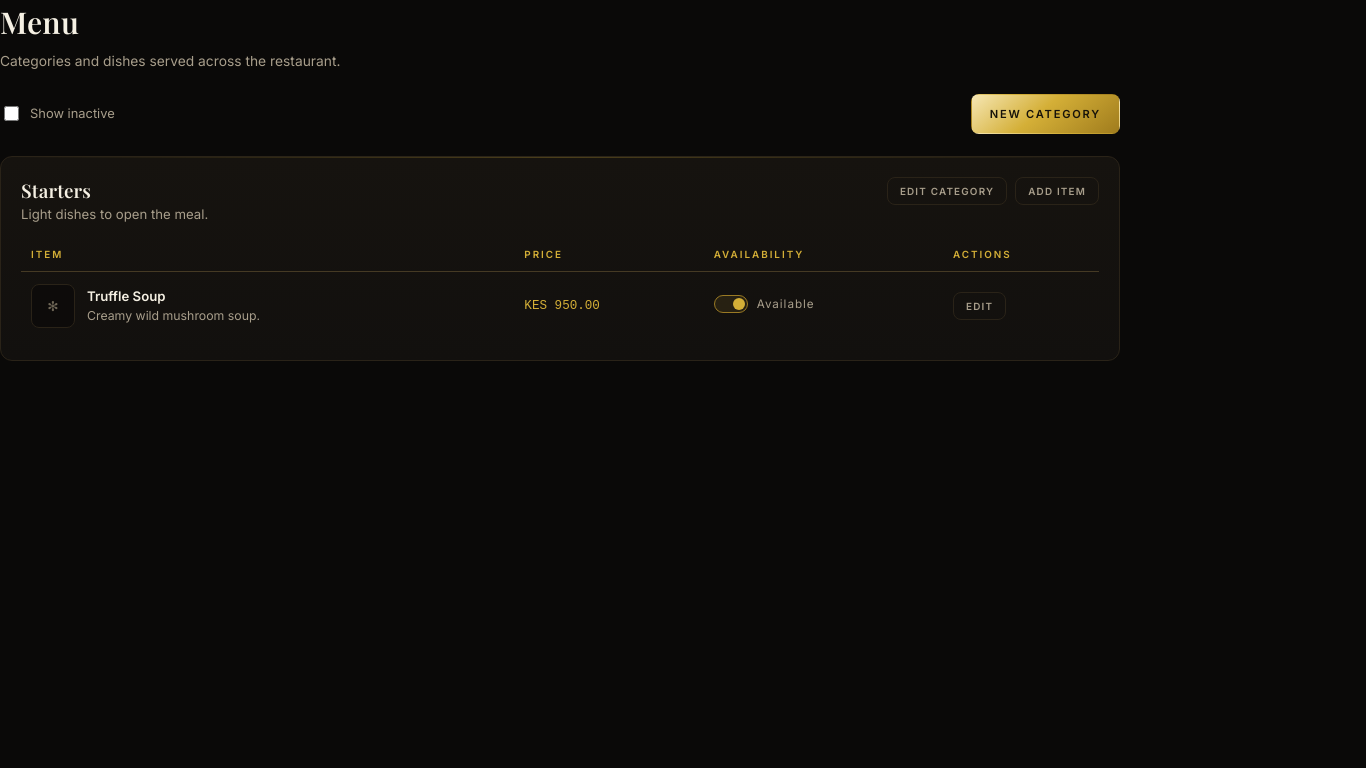
Test: category editing › creates a category through the modal
Expected: the text "Truffle Soup" is shown, [87,288,166,304]
Click the button "New category" at (1045, 114), box [971,94,1120,134]
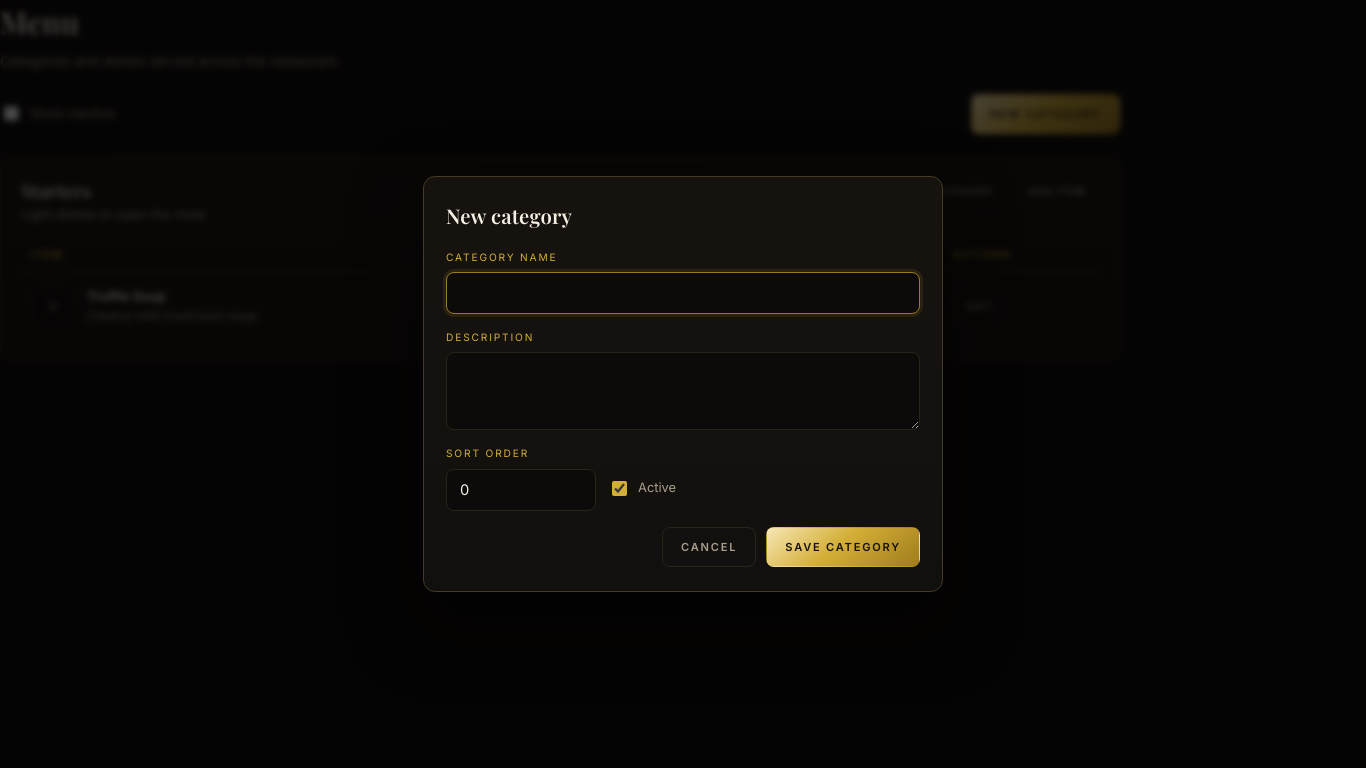
Result: the heading "New category" is shown at [446,202,572,229]
Type "Desserts" into the field labelled "Category name" at (683, 293), box [446,272,920,314]
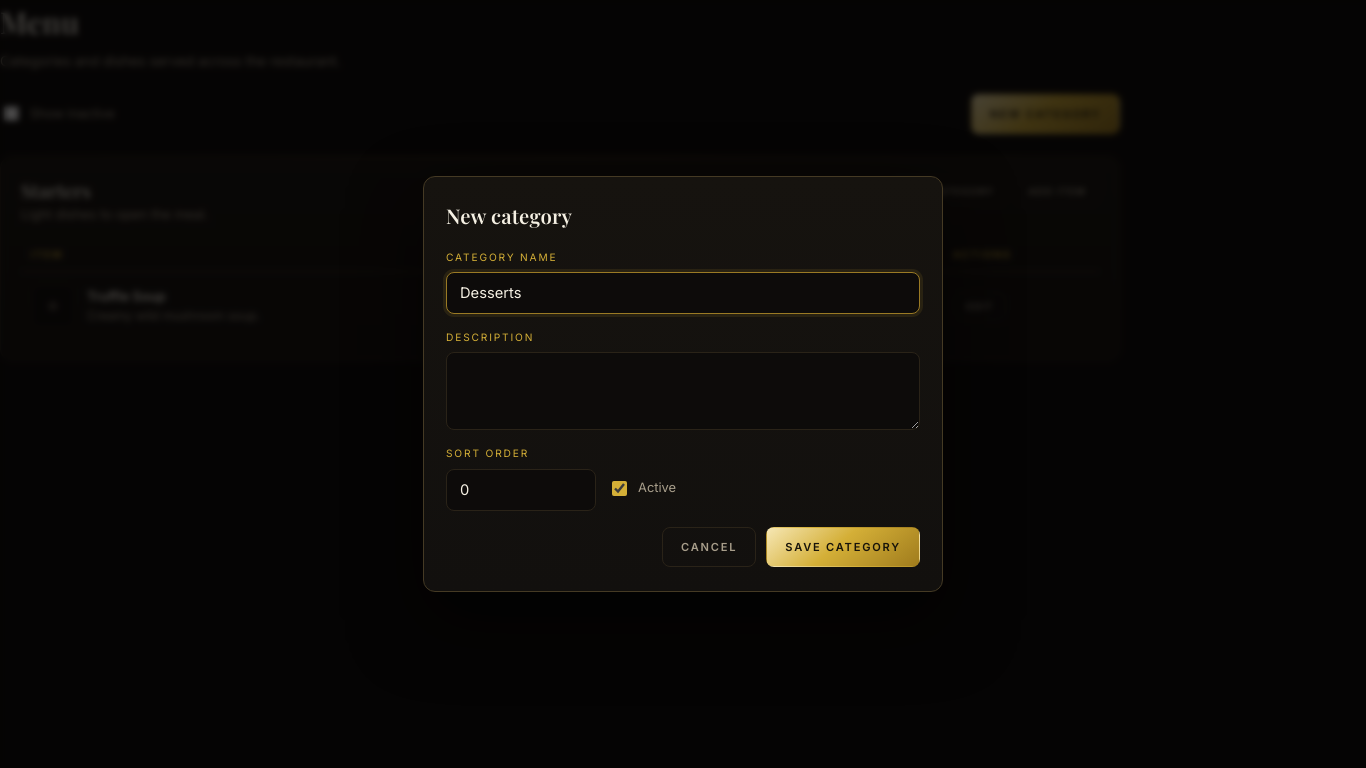
Submit the form, box [446,250,920,567]
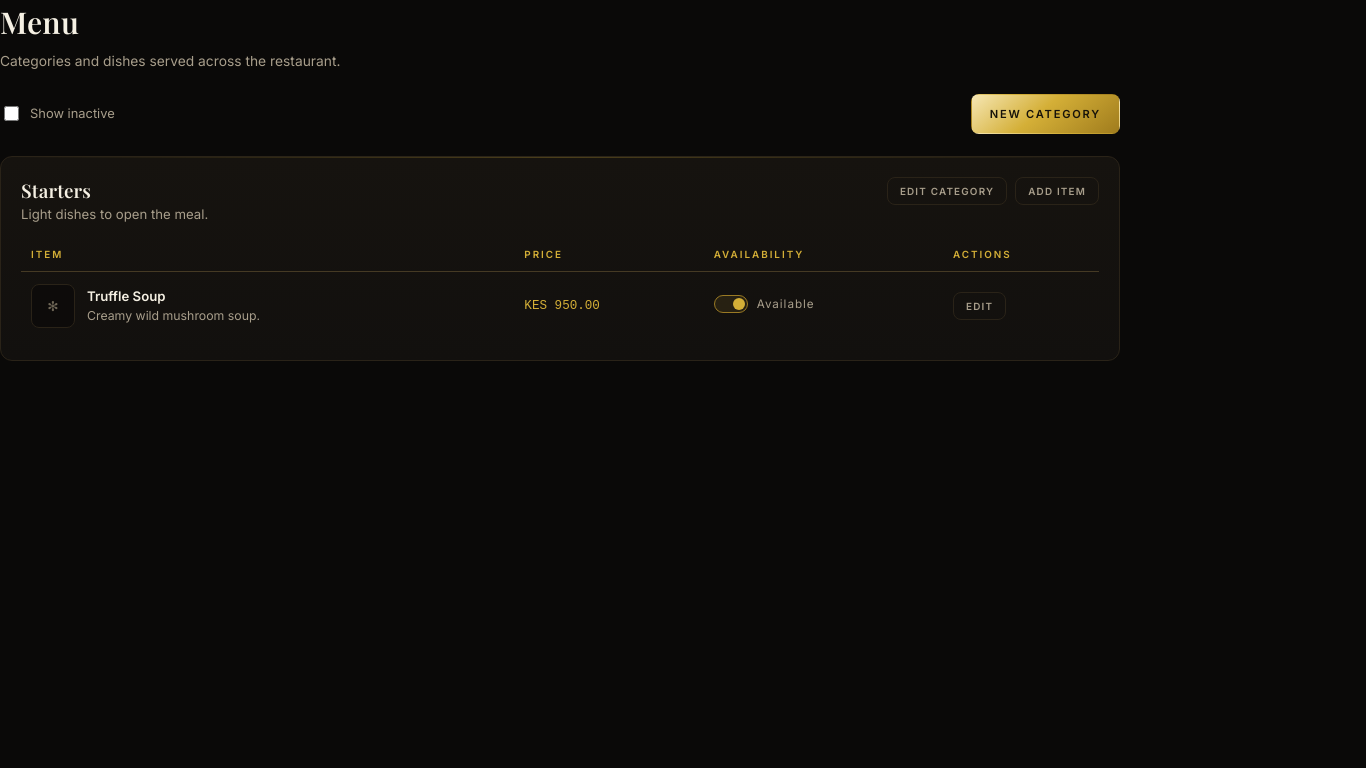
Result: the dialog is gone
